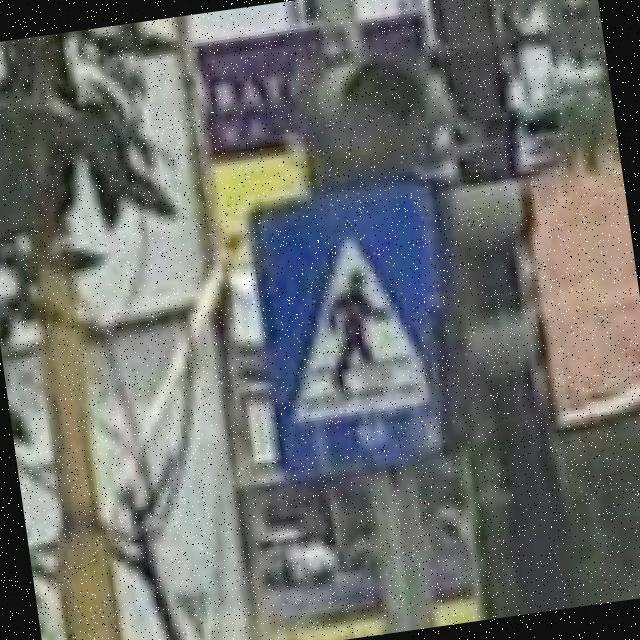Przejscie dla pieszych: (246, 182, 441, 483)
